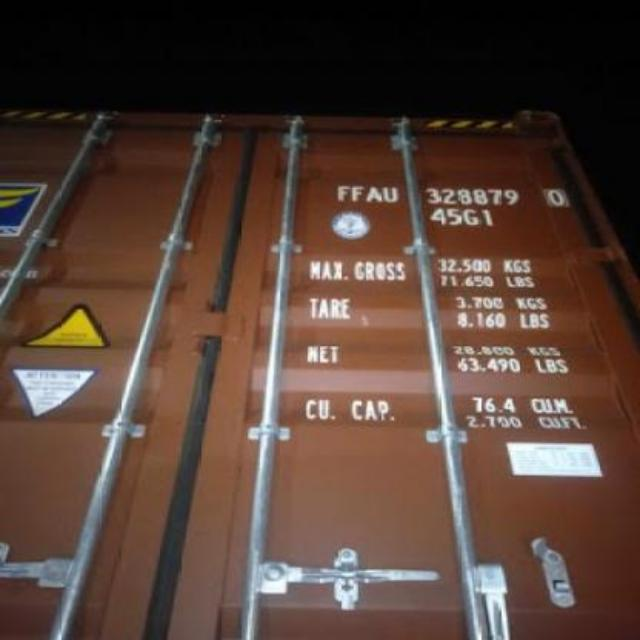0: (548, 188, 564, 204)
2: (444, 190, 456, 202)
3: (426, 187, 439, 203)
7: (486, 188, 502, 204)
8: (472, 188, 490, 206), (456, 188, 472, 204)
9: (504, 190, 518, 204)
A: (366, 185, 382, 201)
F: (336, 184, 349, 200), (350, 185, 362, 201)
U: (382, 185, 400, 203)
